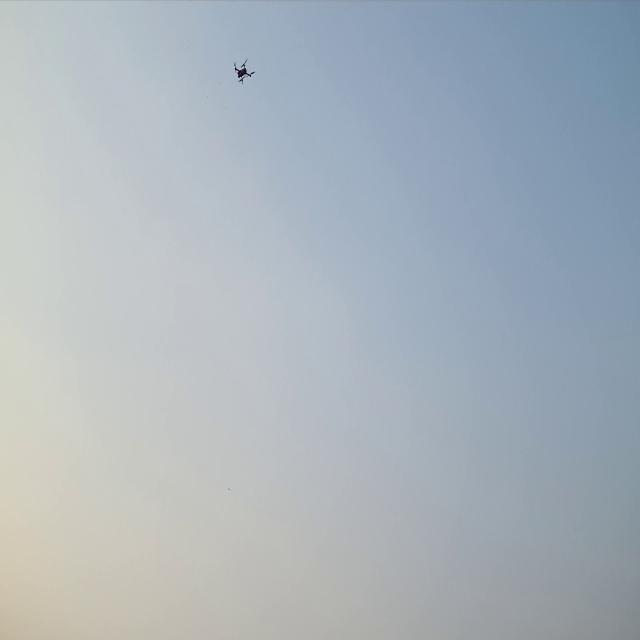UAV: (232, 57, 256, 87)
